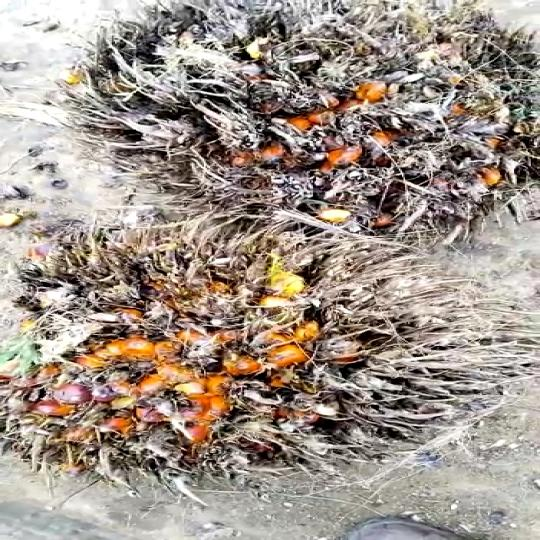terlalu masak: (0, 217, 540, 485), (44, 0, 535, 235)
